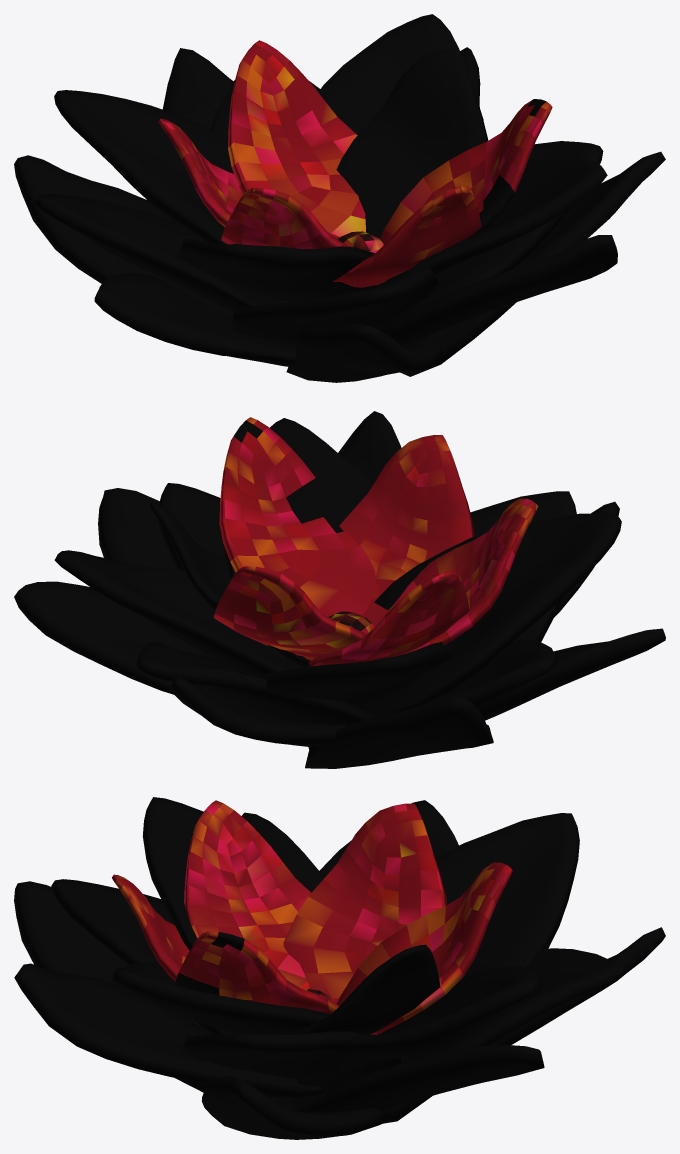
The model's file is Flower1.fbx.
3 renders of one model, top to bottom at view 1: azimuth 30°, elevation 25°; view 2: azimuth 150°, elevation 25°; view 3: azimuth 270°, elevation 25°, orthographic. The views are drawn at different scales.
Visible parts, largest first — view 1: Final_Flower; view 2: Final_Flower; view 3: Final_Flower.
Part boxes in pixels (box(x1,y1,x2,y2)): Final_Flower: box(14, 14, 665, 382); Final_Flower: box(14, 411, 665, 768); Final_Flower: box(14, 797, 665, 1139).
Bounding box in the file's own units: 44.19 × 19.04 × 42.75.
